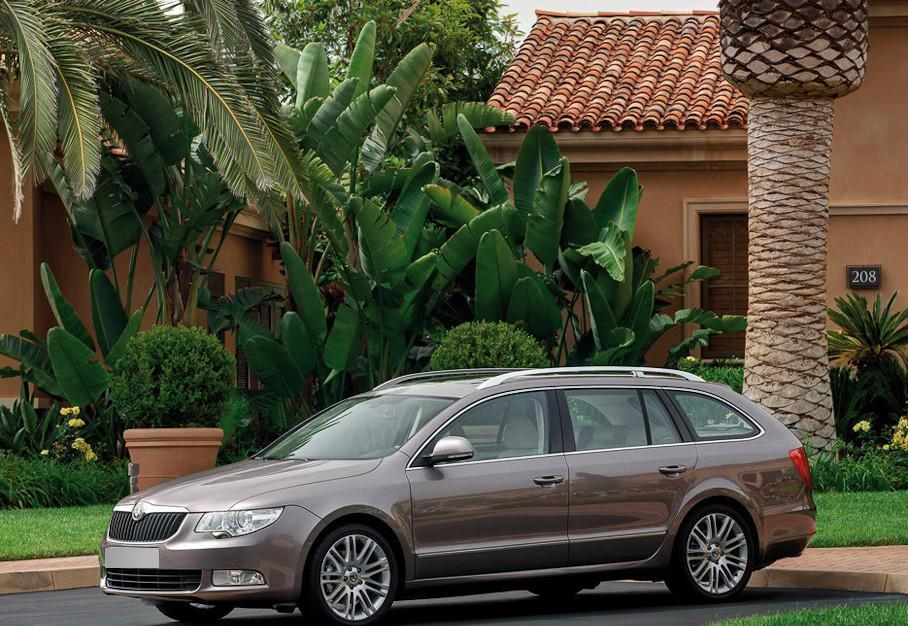Wagon: (100, 366, 816, 626)
